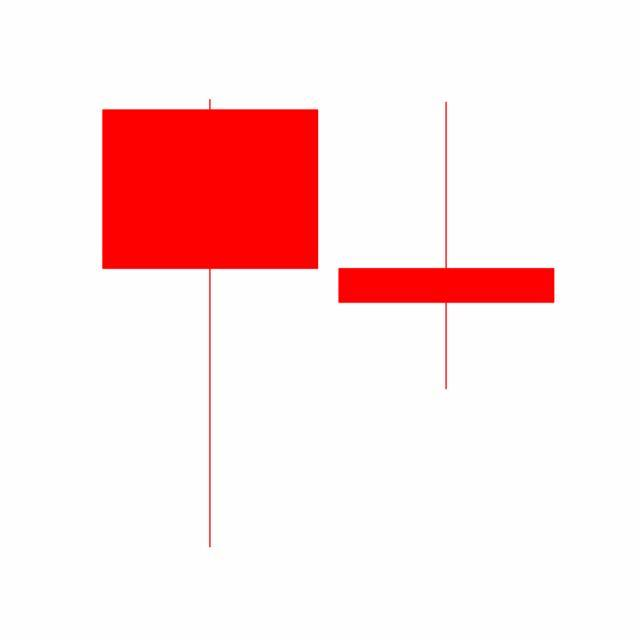Spinning Top: (328, 99, 566, 393)
